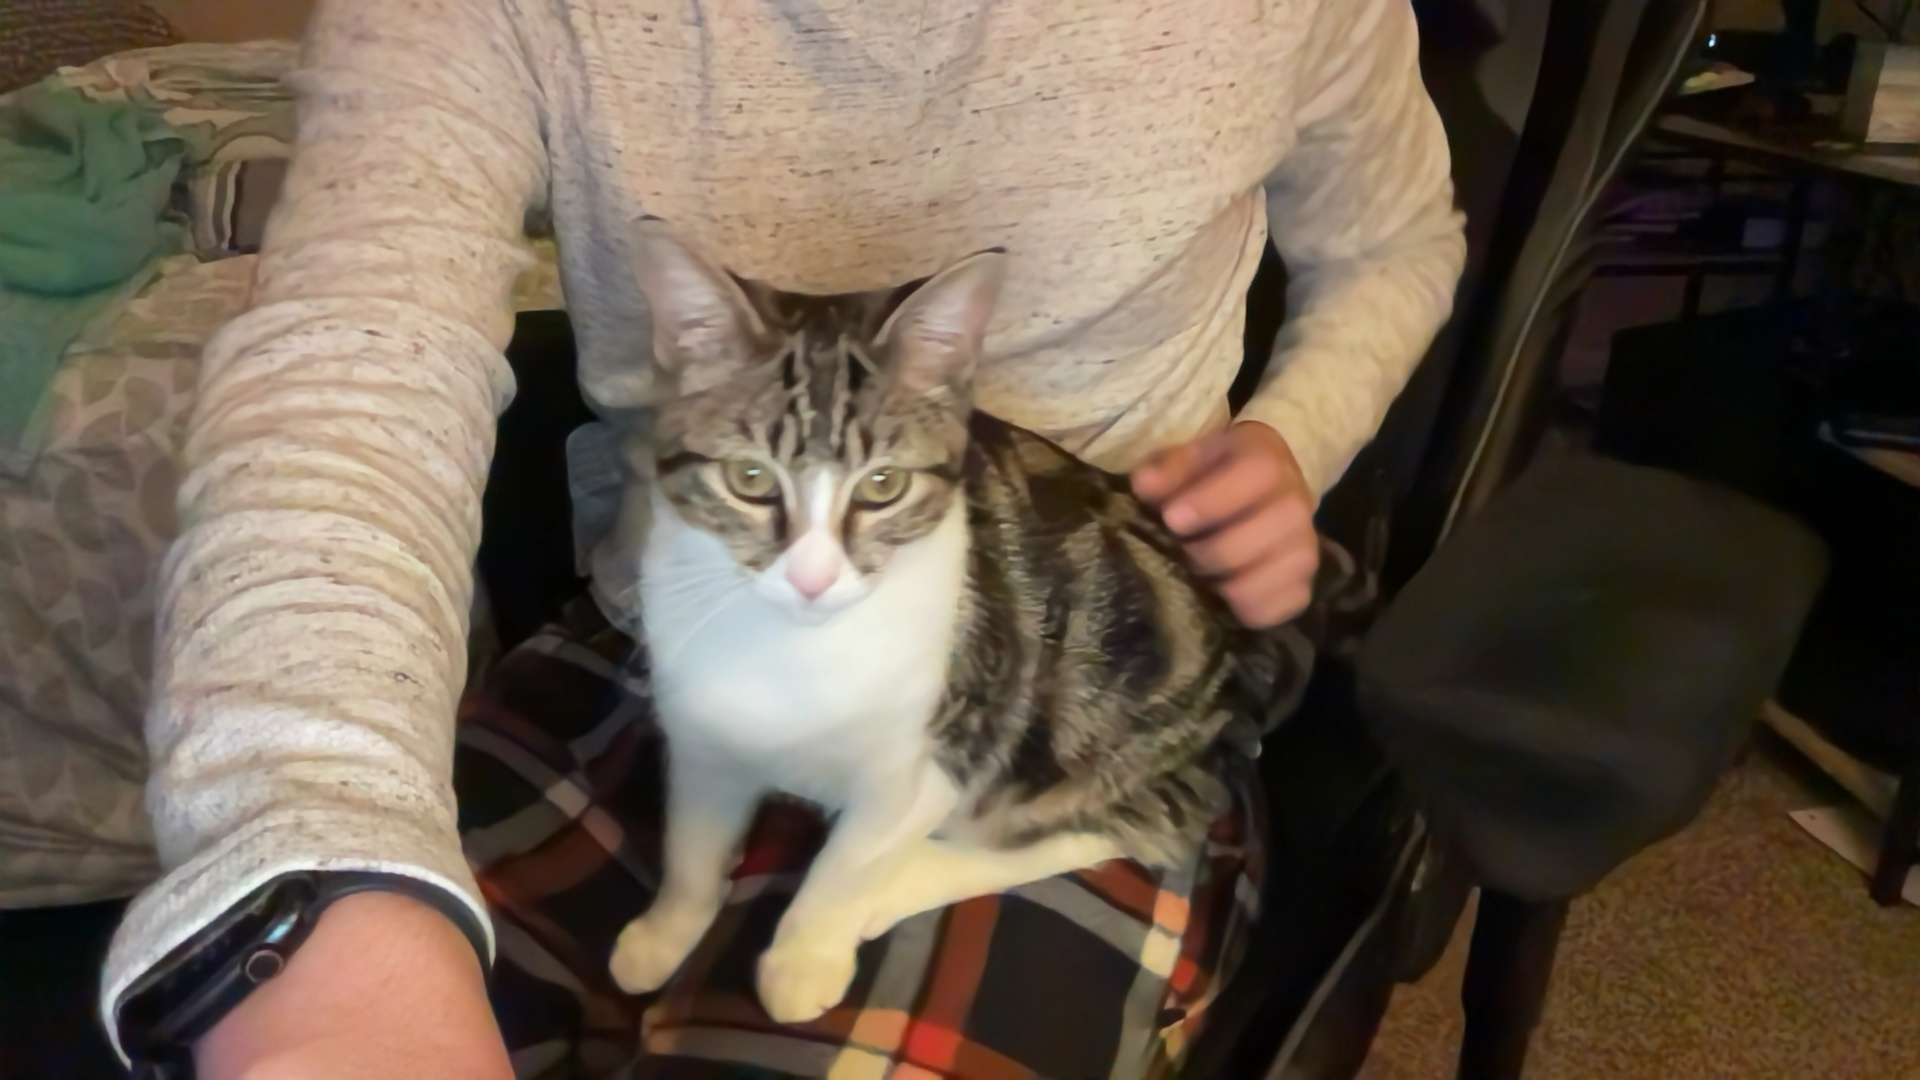cat: (582, 195, 1278, 1035)
